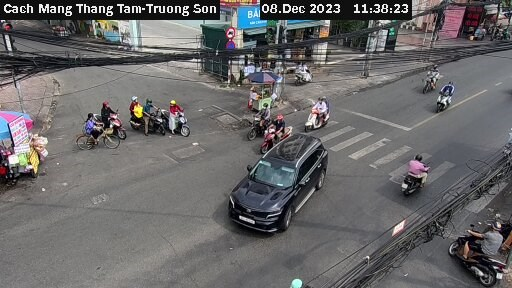car: (222, 131, 327, 232)
motorbike: (455, 218, 505, 279), (395, 156, 439, 208), (292, 95, 343, 131), (126, 96, 165, 136), (429, 80, 467, 119), (95, 104, 137, 135), (161, 101, 197, 135), (247, 106, 283, 135), (258, 120, 292, 146), (417, 63, 447, 91), (290, 61, 320, 86)
